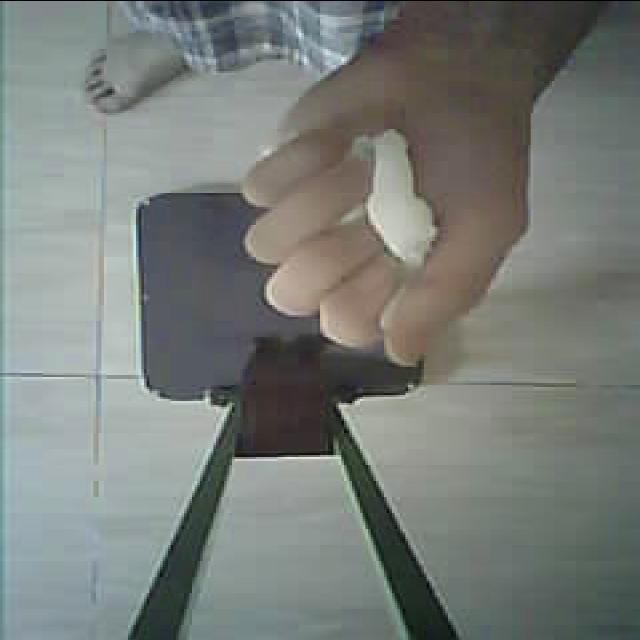Paper: (262, 104, 519, 344)
